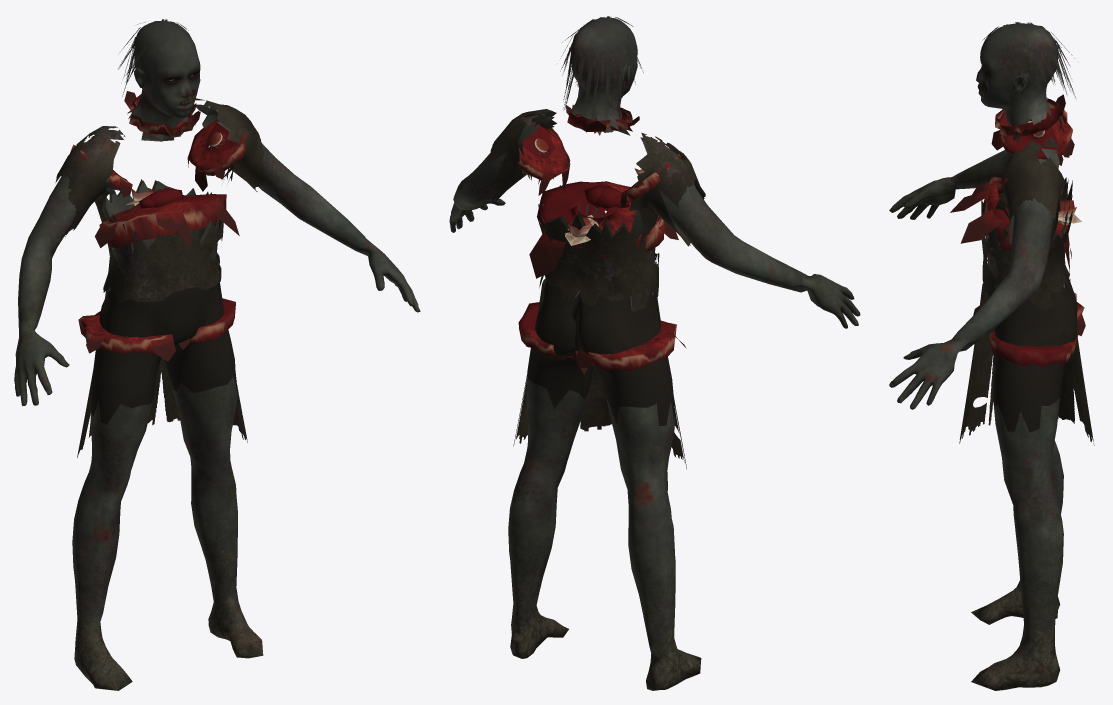
The model's file is rag_zombie_severed.glb.
3 views of the same model, side by side, from view 1: azimuth 30°, elevation 25°; view 2: azimuth 150°, elevation 25°; view 3: azimuth 270°, elevation 25° (orthographic). The views are drawn at different scales.
Parts seen in each view (by area): view 1: rag_zombie_sev_legs, rag_zombie_sev_leg_r, rag_zombie_sev_leg_l, rag_zombie_sev_arm_r, rag_zombie_sev_arm_l, rag_zombie_sev_head; view 2: rag_zombie_sev_legs, rag_zombie_sev_leg_r, rag_zombie_sev_leg_l, rag_zombie_sev_arm_r, rag_zombie_sev_head, rag_zombie_sev_arm_l; view 3: rag_zombie_sev_leg_l, rag_zombie_sev_legs, rag_zombie_sev_arm_l, rag_zombie_sev_head, rag_zombie_sev_arm_r, rag_zombie_sev_leg_r.
Part boxes in pixels (box(x1,y1,x2,y2)): rag_zombie_sev_legs: box(77, 179, 247, 457); rag_zombie_sev_leg_r: box(72, 306, 175, 690); rag_zombie_sev_leg_l: box(165, 298, 263, 658); rag_zombie_sev_arm_r: box(14, 126, 132, 406); rag_zombie_sev_arm_l: box(187, 98, 420, 312); rag_zombie_sev_head: box(118, 19, 200, 141); rag_zombie_sev_legs: box(513, 181, 686, 468); rag_zombie_sev_leg_r: box(572, 313, 701, 690); rag_zombie_sev_leg_l: box(508, 302, 592, 658); rag_zombie_sev_arm_r: box(620, 132, 860, 328); rag_zombie_sev_head: box(560, 16, 643, 135); rag_zombie_sev_arm_l: box(449, 109, 570, 232); rag_zombie_sev_leg_l: box(971, 320, 1077, 690); rag_zombie_sev_legs: box(950, 176, 1094, 445); rag_zombie_sev_arm_l: box(889, 136, 1065, 409); rag_zombie_sev_head: box(976, 22, 1076, 144); rag_zombie_sev_arm_r: box(889, 98, 1074, 219); rag_zombie_sev_leg_r: box(971, 292, 1085, 624).
Bounding box in the file's own units: 1.16 × 1.78 × 0.5397.
Materials: 7 (5 with a texture image).
